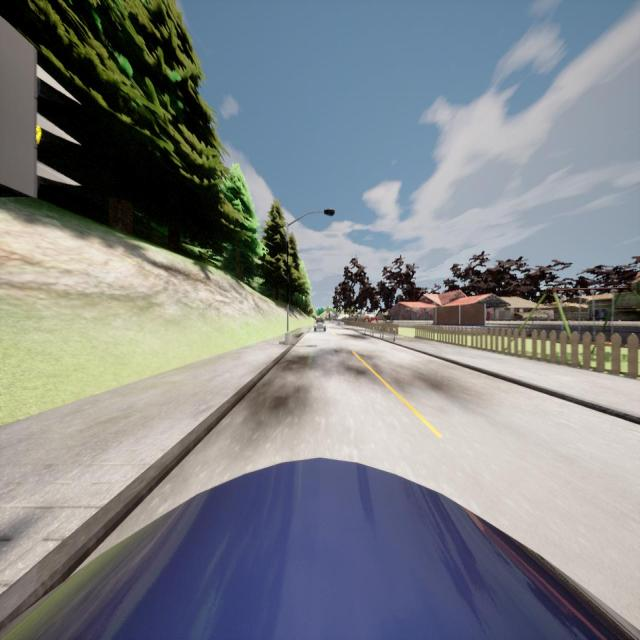Vehicle: (0, 457, 640, 640), (314, 318, 326, 332)
traffic_light: (2, 14, 82, 208)
